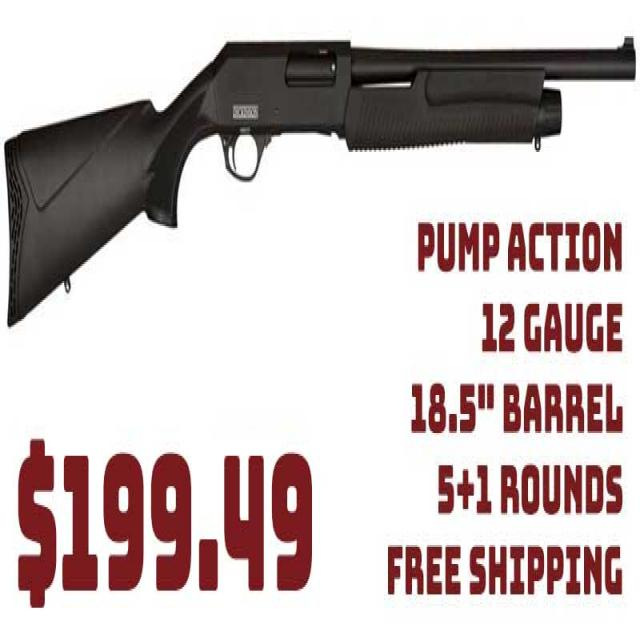ShotGun: (4, 38, 638, 327)
